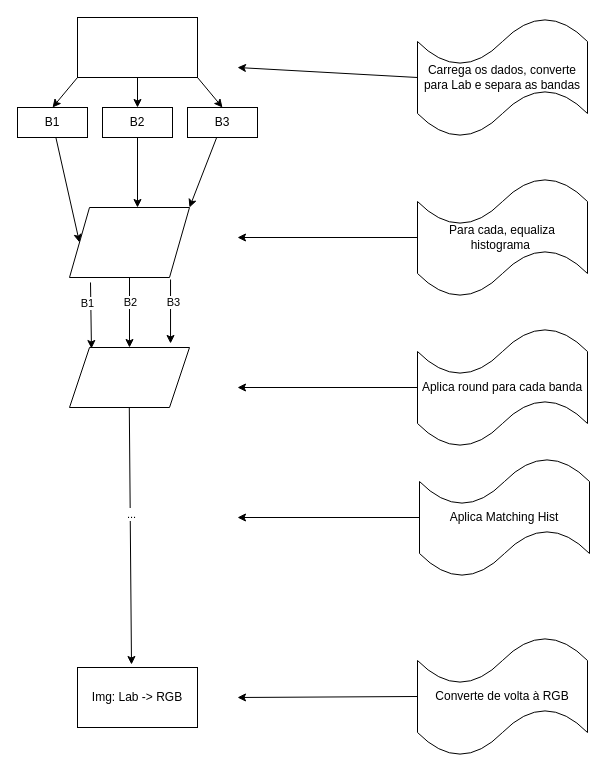
Some shapes in this 607 by 774 pixel diagram are drawn without their labels. Each missing label, with the centre of its shape:
Hist. Eq: [0, 1]: point (129, 242)
Img: RGB -> Lab: point (137, 47)
Round: point (129, 377)
